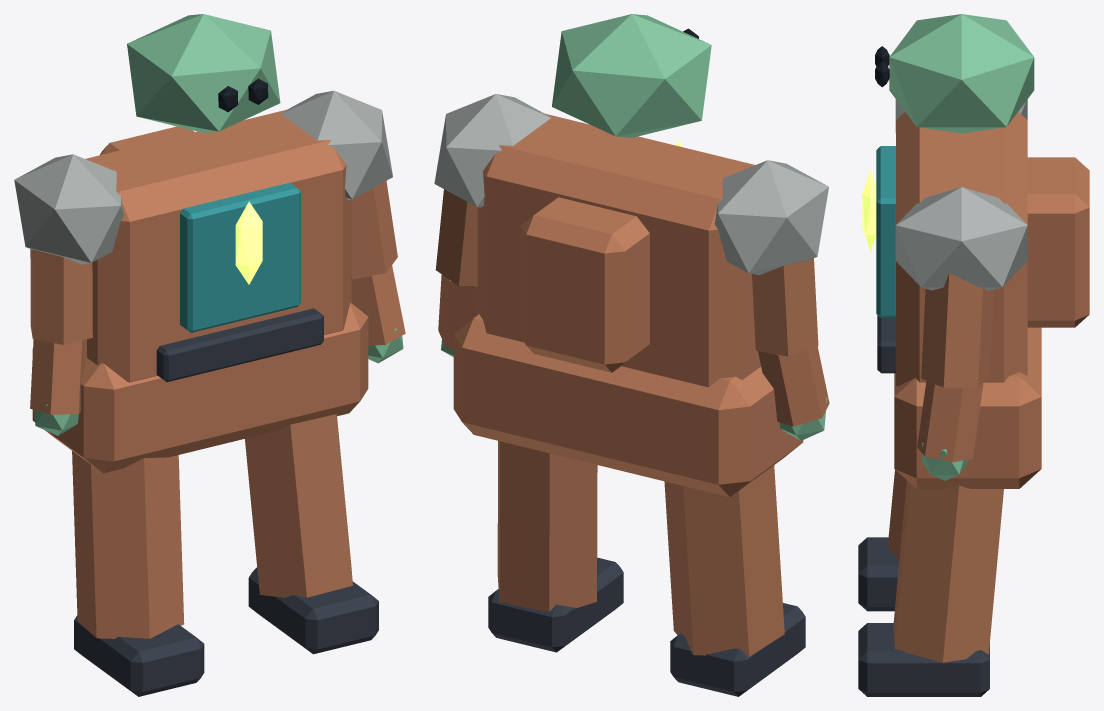
File: npcs_009_seed11.glb
3 views of the same model, side by side, from view 1: azimuth 30°, elevation 25°; view 2: azimuth 150°, elevation 25°; view 3: azimuth 270°, elevation 25° (orthographic). The views are drawn at different scales.
Parts seen in each view (by area): view 1: npcs_009_seed11; view 2: npcs_009_seed11; view 3: npcs_009_seed11.
Boxes of the visible parts, x1,y1,x2,y2 form: npcs_009_seed11: [14, 14, 405, 696]; npcs_009_seed11: [434, 14, 829, 696]; npcs_009_seed11: [858, 14, 1089, 696].
Size of the model in its own units: 1.02 by 1.65 by 0.5539.
